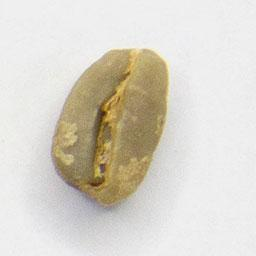longberry: (47, 42, 170, 211)
